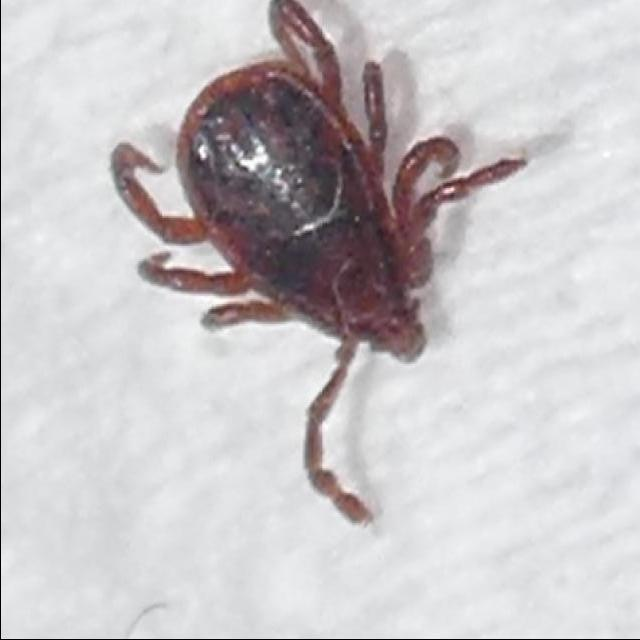Rhipicephalus Sanguineus-M: (106, 0, 527, 531)
